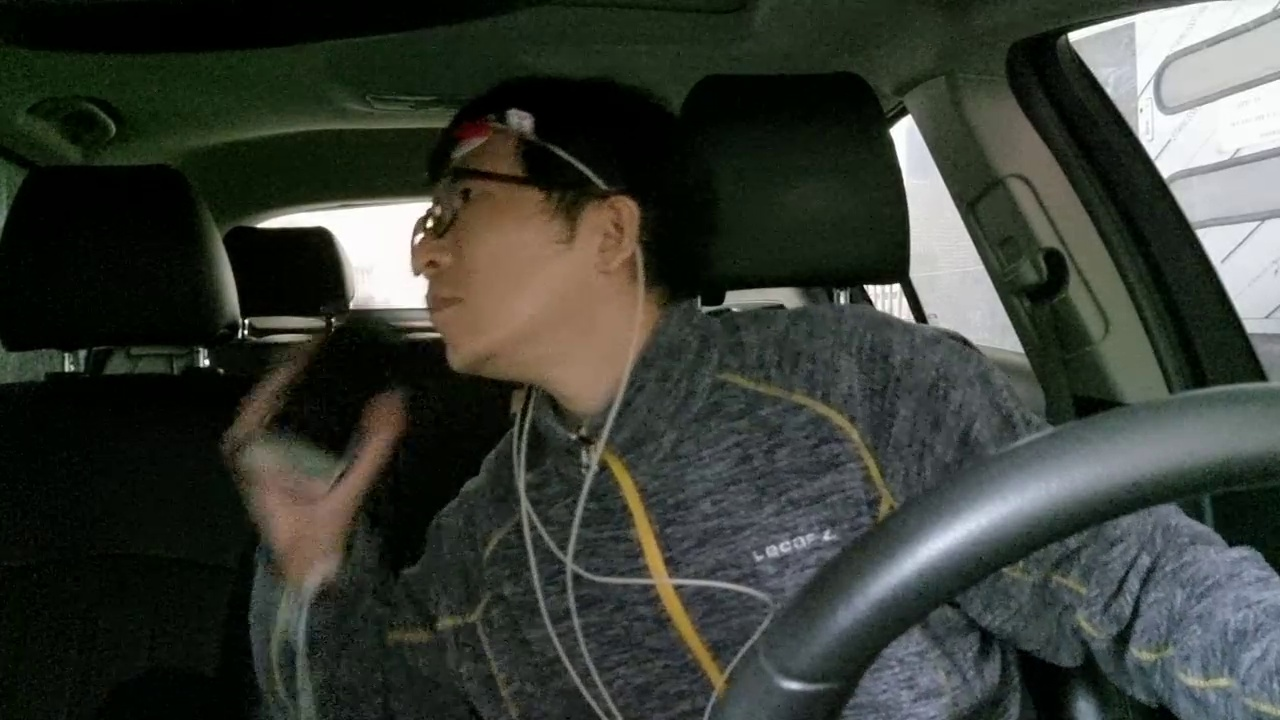phone: (236, 284, 428, 515)
